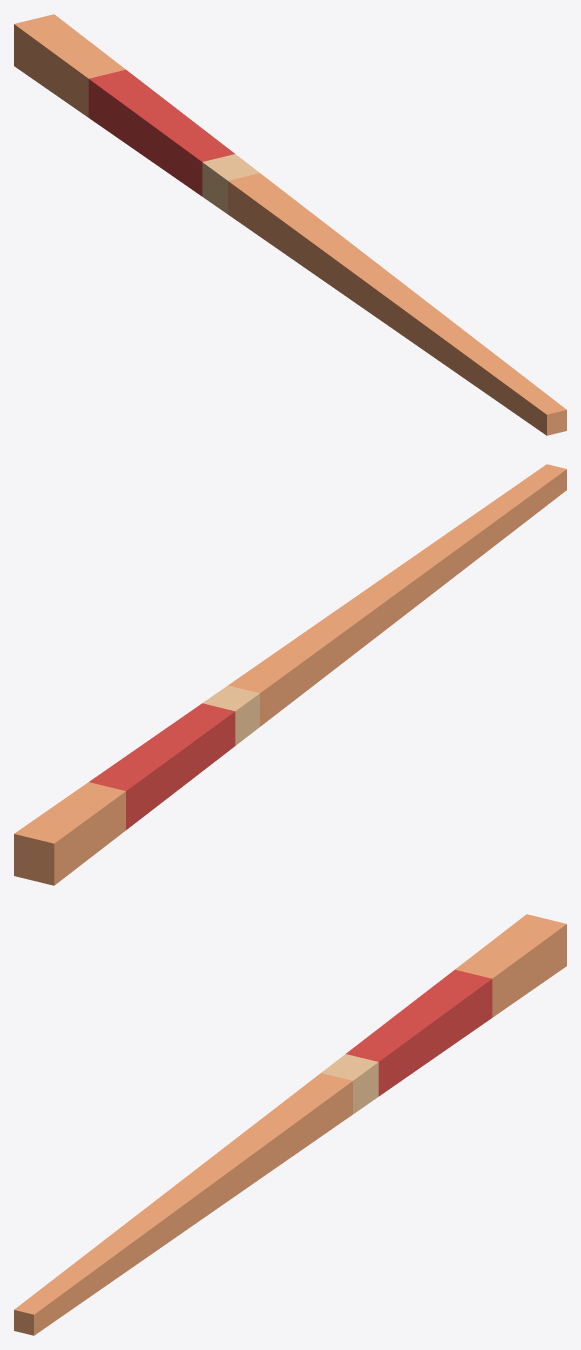
Rendered from Chopstick_Fancy.glb.
3 views of the same model, one above another, from view 1: azimuth 30°, elevation 25°; view 2: azimuth 150°, elevation 25°; view 3: azimuth 330°, elevation 25° (orthographic).
Parts seen in each view (by area): view 1: chopstickFancy; view 2: chopstickFancy; view 3: chopstickFancy.
Boxes of the visible parts, x1,y1,x2,y2 form: chopstickFancy: [14, 14, 566, 435]; chopstickFancy: [14, 464, 566, 885]; chopstickFancy: [14, 914, 566, 1335].
Size of the model in its own units: 0.02 by 0.02 by 0.45.
